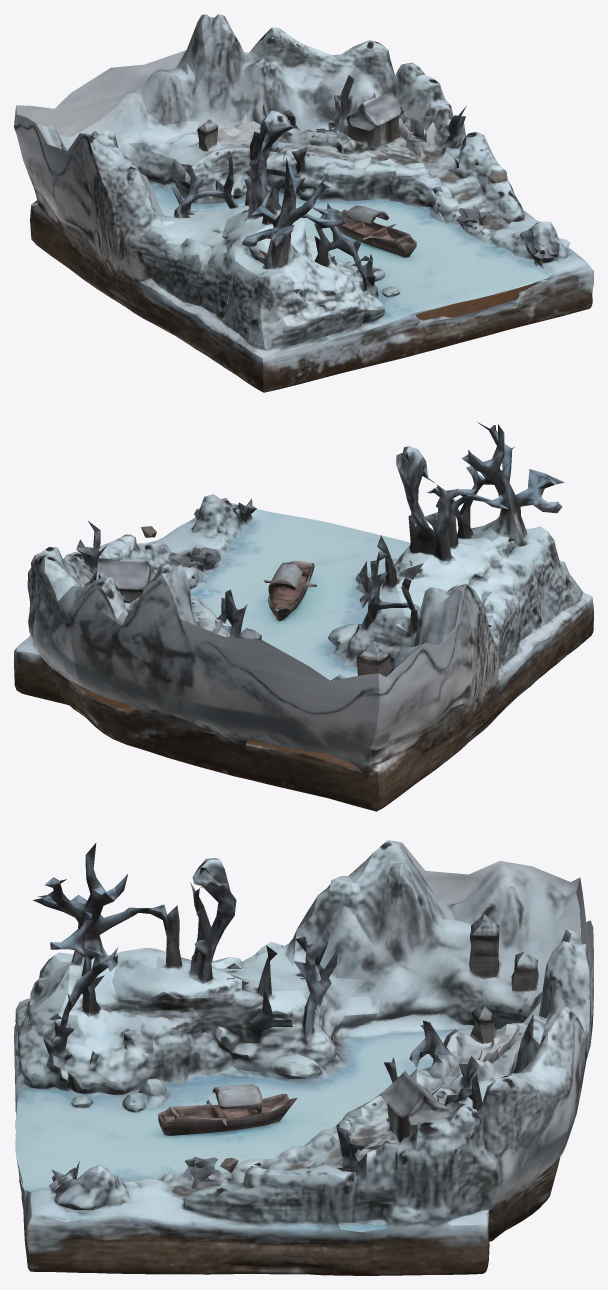
Rendered from snow_diorama.glb.
The picture shows the model from 3 angles, top to bottom: view 1: azimuth 30°, elevation 25°; view 2: azimuth 150°, elevation 25°; view 3: azimuth 270°, elevation 25°; orthographic projection. The views are drawn at different scales.
Visible parts, largest first — view 1: geometry_0; view 2: geometry_0; view 3: geometry_0.
Part boxes in pixels (x1=…): geometry_0: x1=14, y1=14, x2=593, y2=392; geometry_0: x1=14, y1=422, x2=593, y2=811; geometry_0: x1=14, y1=840, x2=593, y2=1275.
Bounding box in the file's own units: 0.3 × 0.1512 × 0.304.
1 material, 1 textured.
